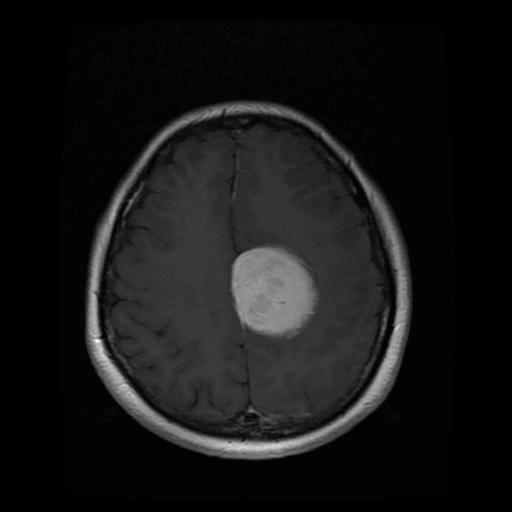Tumour-Meningioma: (201, 238, 336, 350)
